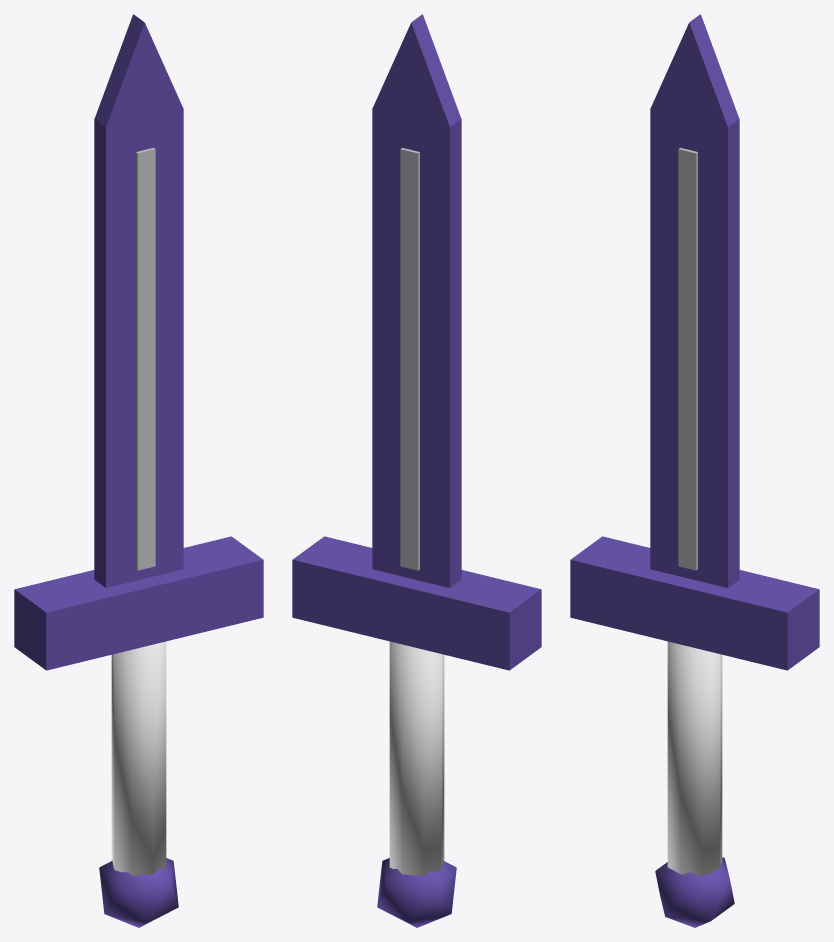
Rendered from demonite_shortsword.glb.
The picture shows the model from 3 angles, left to right: view 1: azimuth 30°, elevation 25°; view 2: azimuth 150°, elevation 25°; view 3: azimuth 330°, elevation 25°; orthographic projection.
Parts seen in each view (by area): view 1: demonite_shortsword_v0; view 2: demonite_shortsword_v0; view 3: demonite_shortsword_v0.
Boxes of the visible parts, x1,y1,x2,y2 form: demonite_shortsword_v0: (14,14,263,927); demonite_shortsword_v0: (292,14,541,927); demonite_shortsword_v0: (570,14,819,927).
Size of the model in its own units: 0.196 by 0.785 by 0.0595.
